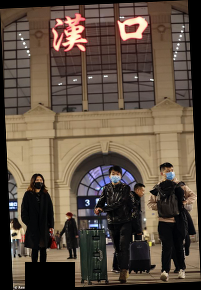with_mask: (163, 167, 176, 180), (110, 170, 122, 183), (34, 178, 44, 189)
without_mask: (139, 188, 146, 198)
